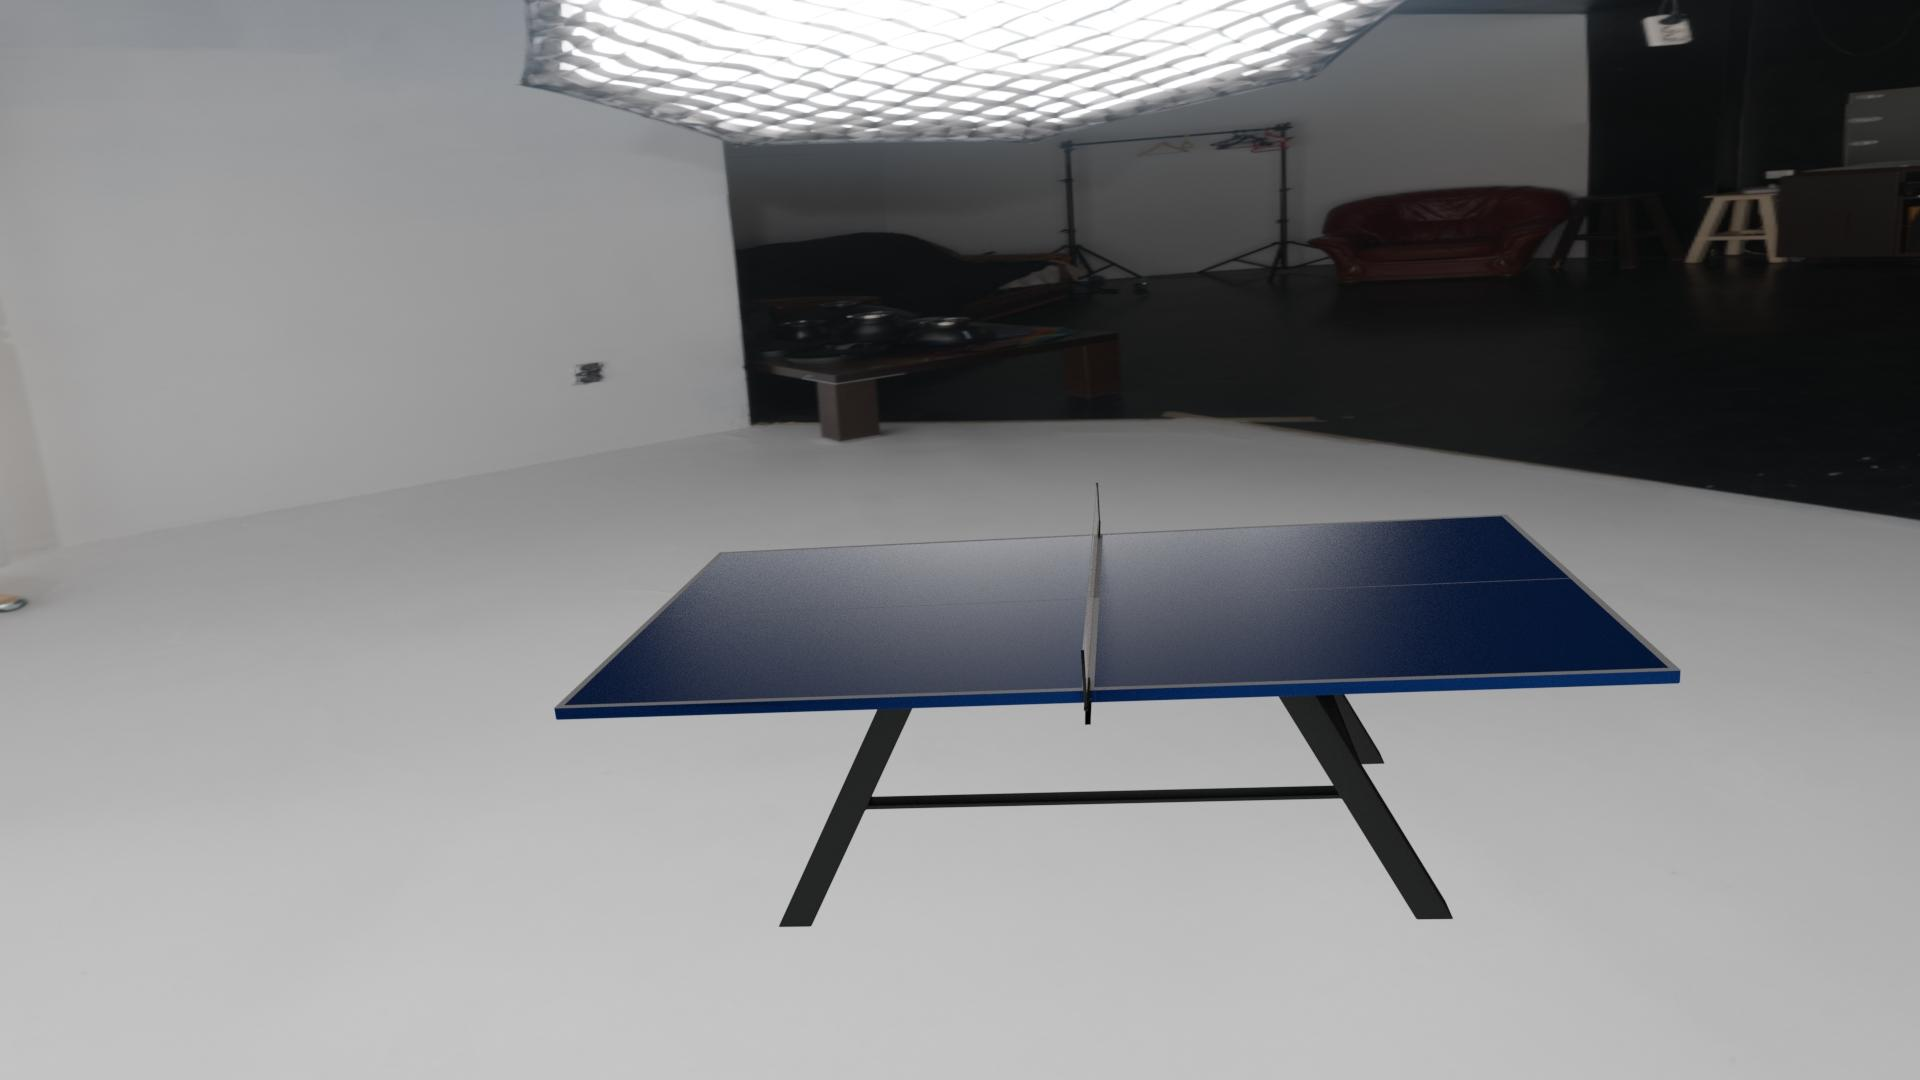table: (564, 516, 1669, 705)
